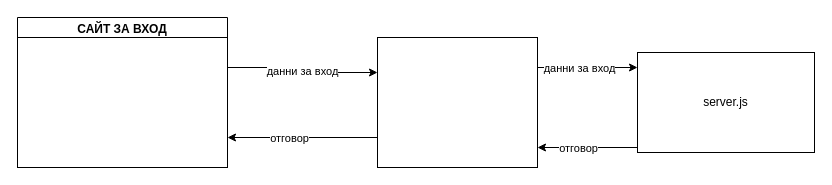
Some shapes in this 832 by 185 pixel diagram are drawn without their labels. The centre of each missing label's shape, as x and y in pixels:
login.js: [457,102]
ПОТРЕБИТЕЛСКО ИМЕ ПАРОЛА: [122,102]
